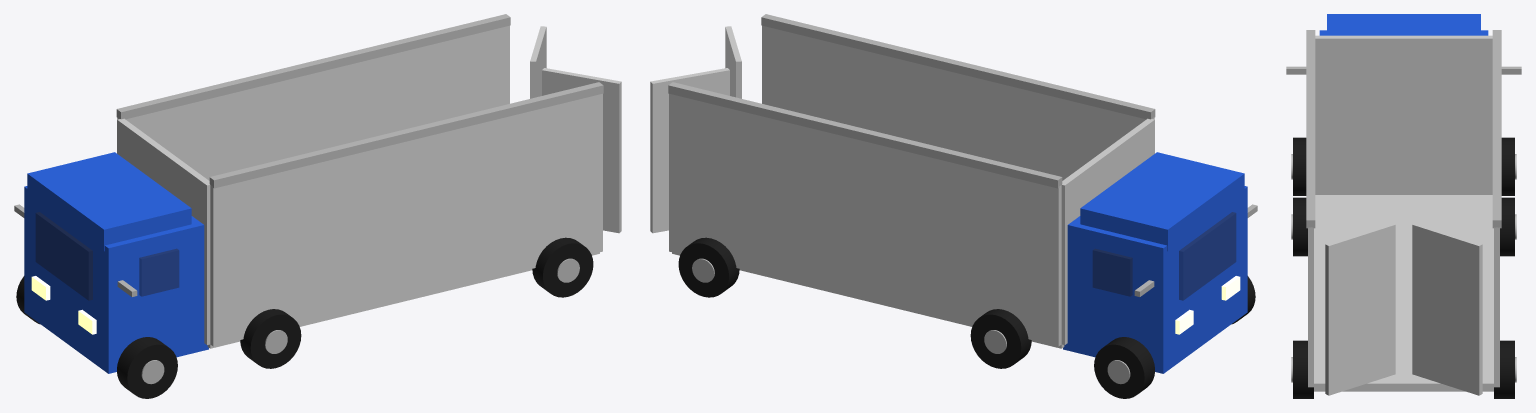
The model's file is truck.glb.
3 renders of one model, left to right at view 1: azimuth 30°, elevation 25°; view 2: azimuth 150°, elevation 25°; view 3: azimuth 270°, elevation 25°, orthographic.
Parts seen in each view (by area): view 1: cargo_right_wall, cargo_left_wall, cab_main, cab_roof, wheel_right (×3), cargo_roof_edge_right, cargo_roof_edge_left, cargo_front_wall, rear_door_right_pivot, windshield, side_window_right, rear_door_left_pivot (+1 smaller); view 2: cargo_left_wall, cargo_right_wall, cab_main, cab_roof, wheel_left (×3), cargo_roof_edge_left, cargo_roof_edge_right, cargo_front_wall, rear_door_left_pivot, windshield, side_window_left, rear_door_right_pivot (+1 smaller); view 3: cargo_front_wall, cargo_floor, rear_door_left_pivot, rear_door_right_pivot, cab_roof, wheel_left (×3), wheel_right (×3), cargo_roof_edge_left, cargo_roof_edge_right, cargo_left_wall, cargo_right_wall.
Part boxes in pixels (<box>): cargo_right_wall: <box>210,93,602,346</box>; cargo_left_wall: <box>117,25,509,180</box>; cab_main: <box>24,186,208,373</box>; cab_roof: <box>27,152,191,251</box>; wheel_right (×3): <box>117,237,593,398</box>; cargo_roof_edge_right: <box>209,82,603,188</box>; cargo_roof_edge_left: <box>116,14,510,119</box>; cargo_front_wall: <box>117,118,210,344</box>; rear_door_right_pivot: <box>542,68,621,233</box>; windshield: <box>35,212,92,300</box>; side_window_right: <box>139,248,179,296</box>; rear_door_left_pivot: <box>530,26,546,98</box>; cargo_left_wall: <box>669,93,1061,346</box>; cargo_right_wall: <box>762,25,1154,180</box>; cab_main: <box>1063,186,1247,373</box>; cab_roof: <box>1080,152,1244,251</box>; wheel_left (×3): <box>678,237,1154,398</box>; cargo_roof_edge_left: <box>668,82,1062,188</box>; cargo_roof_edge_right: <box>761,14,1155,119</box>; cargo_front_wall: <box>1061,118,1154,344</box>; rear_door_left_pivot: <box>650,68,729,233</box>; windshield: <box>1179,212,1236,300</box>; side_window_left: <box>1092,248,1132,296</box>; rear_door_right_pivot: <box>725,26,741,98</box>; cargo_front_wall: <box>1315,35,1492,194</box>; cargo_floor: <box>1314,195,1493,391</box>; rear_door_left_pivot: <box>1412,223,1482,395</box>; rear_door_right_pivot: <box>1325,223,1395,395</box>; cab_roof: <box>1327,14,1480,35</box>; wheel_left (×3): <box>1494,137,1514,398</box>; wheel_right (×3): <box>1293,137,1313,398</box>; cargo_roof_edge_left: <box>1492,30,1501,228</box>; cargo_roof_edge_right: <box>1306,30,1315,228</box>; cargo_left_wall: <box>1494,227,1499,387</box>; cargo_right_wall: <box>1308,227,1313,387</box>.
Size of the model in its own units: 8.04 by 2.89 by 3.14.
